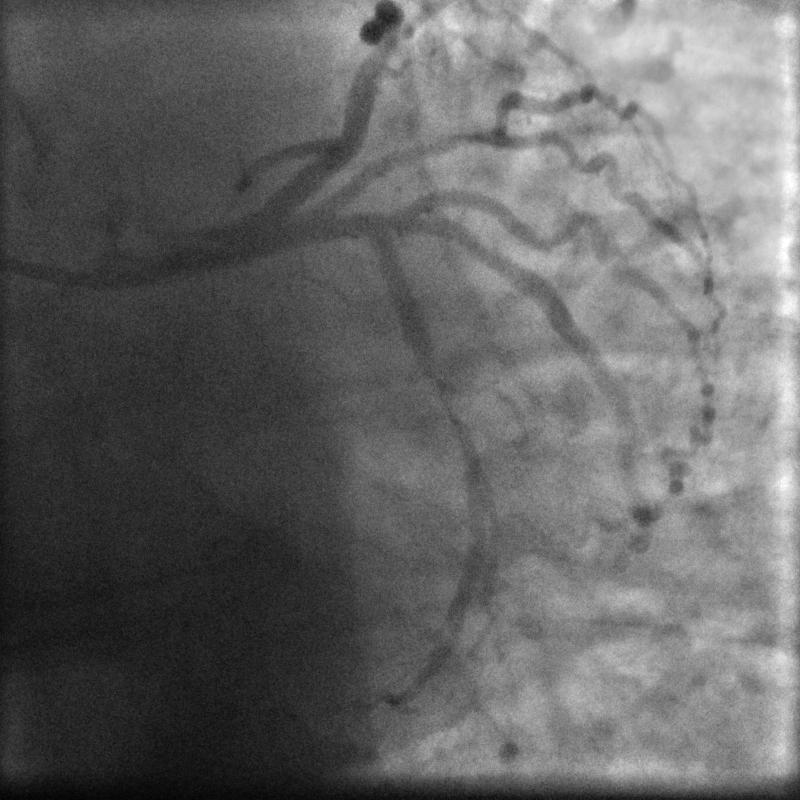Stenosis: (424, 364, 476, 457)
